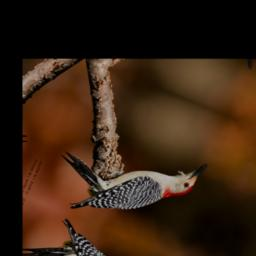Woodpecker: (40, 111, 209, 250)
